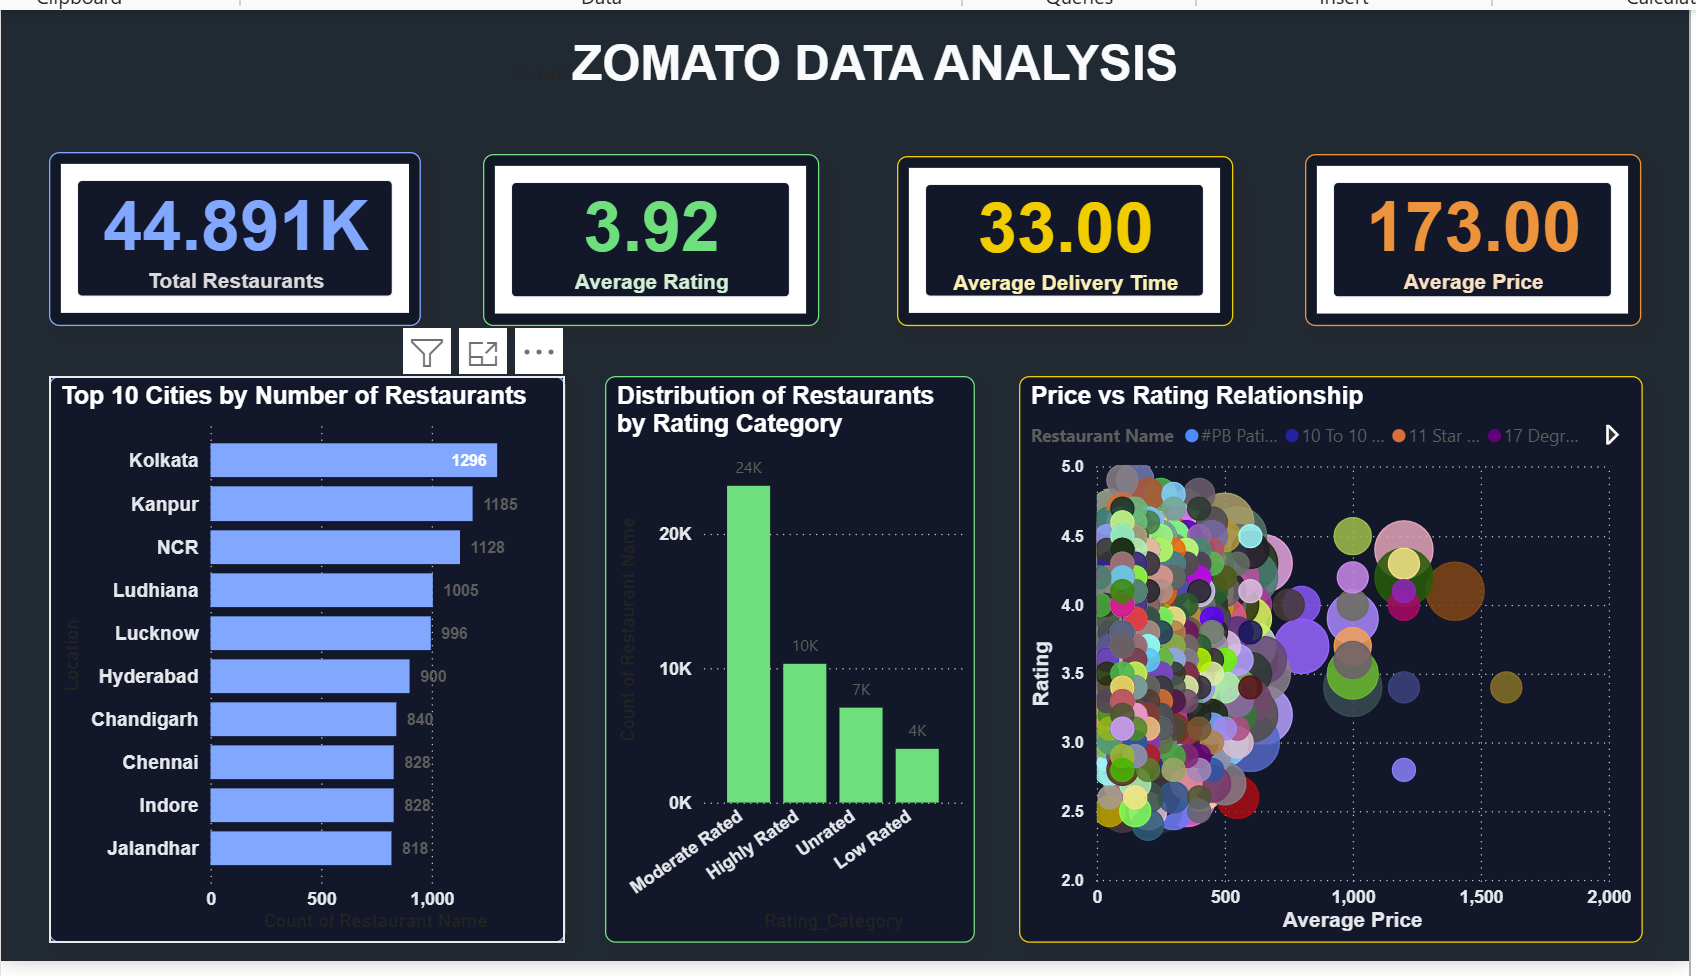

This screenshot's page, from the dashboard's own definition file:
{"tool":"powerbi","page":{"name":"Executive Overview","canvas":[1280,720],"ordinal":0},"visuals":[{"type":"textbox","box":[68.2,13.6,1143.5,72.8],"z":0},{"type":"cardVisual","fields":{"Data":["zomato_dataset_feature_engineered.Total Restaurants"]},"box":[36.4,107.7,282.1,131.9],"z":1000},{"type":"cardVisual","fields":{"Data":["zomato_dataset_feature_engineered.Avg Rating"]},"box":[365.5,109.2,254.8,130.4],"z":2000},{"type":"cardVisual","fields":{"Data":["zomato_dataset_feature_engineered.Avg Delivery Time"]},"box":[679.4,110.7,254.8,128.9],"z":3000},{"type":"cardVisual","fields":{"Data":["zomato_dataset_feature_engineered.Avg Price"]},"box":[988.8,109.2,254.8,130.4],"z":4000},{"type":"clusteredBarChart","title":"Top 10 Cities by Number of Restaurants","fields":{"Category":["zomato_dataset_feature_engineered.Location"],"Y":["CountNonNull(zomato_dataset_feature_engineered.Restaurant Name)"]},"box":[36.4,277.5,391.3,429.2],"z":5000},{"type":"clusteredColumnChart","title":"Distribution of Restaurants by Rating Category","fields":{"Category":["zomato_dataset_feature_engineered.Rating_Category"],"Y":["CountNonNull(zomato_dataset_feature_engineered.Restaurant Name)"]},"box":[458,277.5,280.6,429.2],"z":6000},{"type":"scatterChart","title":"Price vs Rating Relationship","fields":{"X":["zomato_dataset_feature_engineered.Average Price"],"Y":["zomato_dataset_feature_engineered.Rating"],"Series":["zomato_dataset_feature_engineered.Restaurant Name"],"Size":["Avg(zomato_dataset_feature_engineered.Cuisine_Count)"]},"box":[771.9,277.5,473.2,429.2],"z":7000}]}

Visuals, with their boxes on the page's 1280x720 design canvas (x1, y1, x2, y2). These are canvas units, not pixel positions in the 1696x976 screenshot, which may show the page scaled, cropped or inside an application window:
textbox: 68, 14, 1212, 86
cardVisual - zomato_dataset_feature_engineered.Total Restaurants: 36, 108, 318, 240
cardVisual - zomato_dataset_feature_engineered.Avg Rating: 366, 109, 620, 240
cardVisual - zomato_dataset_feature_engineered.Avg Delivery Time: 679, 111, 934, 240
cardVisual - zomato_dataset_feature_engineered.Avg Price: 989, 109, 1244, 240
"Top 10 Cities by Number of Restaurants" clusteredBarChart: 36, 278, 428, 707
"Distribution of Restaurants by Rating Category" clusteredColumnChart: 458, 278, 739, 707
"Price vs Rating Relationship" scatterChart: 772, 278, 1245, 707
